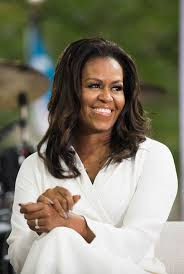black_female: (48, 37, 153, 151)
